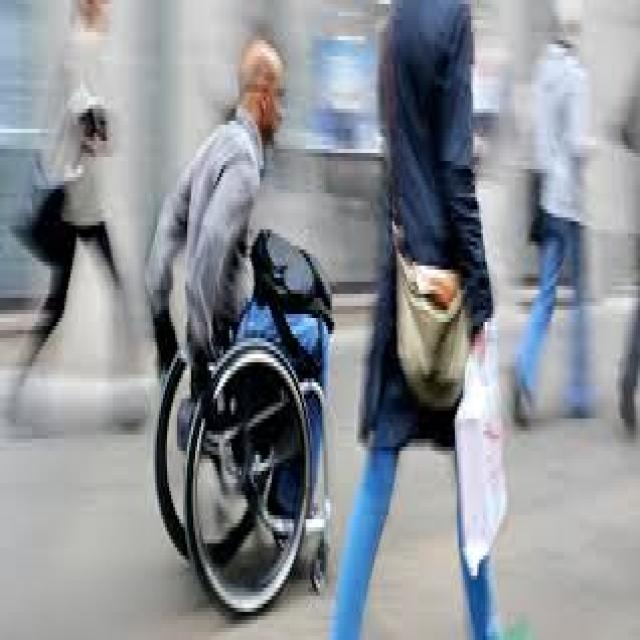wheelchairs: (157, 330, 336, 608)
